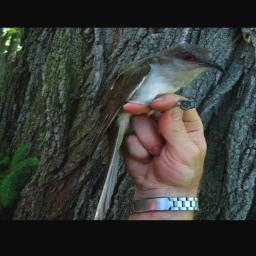Cuckoo: (81, 43, 229, 220)
